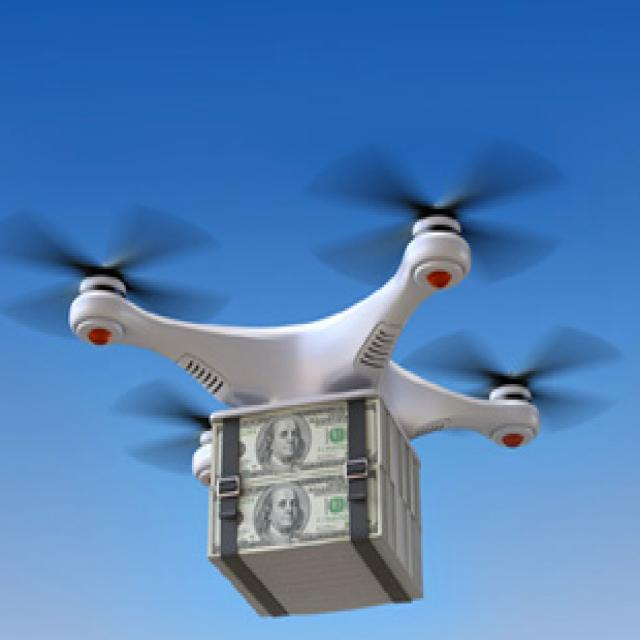drone: (0, 165, 632, 525)
